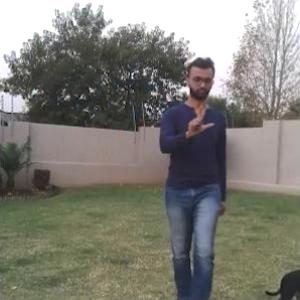land_hand: (182, 106, 218, 144)
